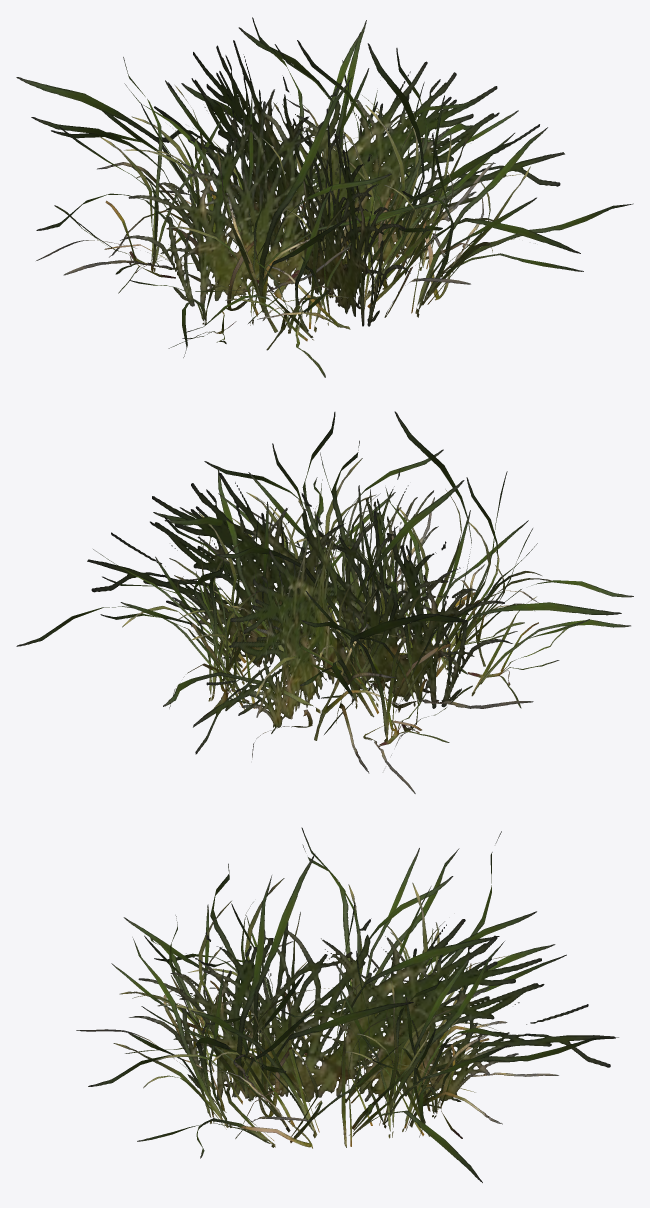
Rendered from grass_medium_01_large_c_LOD1.glb.
The picture shows the model from 3 angles, top to bottom: view 1: azimuth 30°, elevation 25°; view 2: azimuth 150°, elevation 25°; view 3: azimuth 270°, elevation 25°; orthographic projection. The views are drawn at different scales.
Visible parts, largest first — view 1: grass_medium_01_large_c_LOD1__lod0; view 2: grass_medium_01_large_c_LOD1__lod0; view 3: grass_medium_01_large_c_LOD1__lod0.
Part boxes in pixels (x1,y1,x2,y2): grass_medium_01_large_c_LOD1__lod0: [16, 17, 633, 377]; grass_medium_01_large_c_LOD1__lod0: [16, 411, 633, 793]; grass_medium_01_large_c_LOD1__lod0: [76, 827, 618, 1182].
Size of what is drawn, in the model's own units: 0.2899 by 0.1403 by 0.2899.
1 material, 1 textured.
